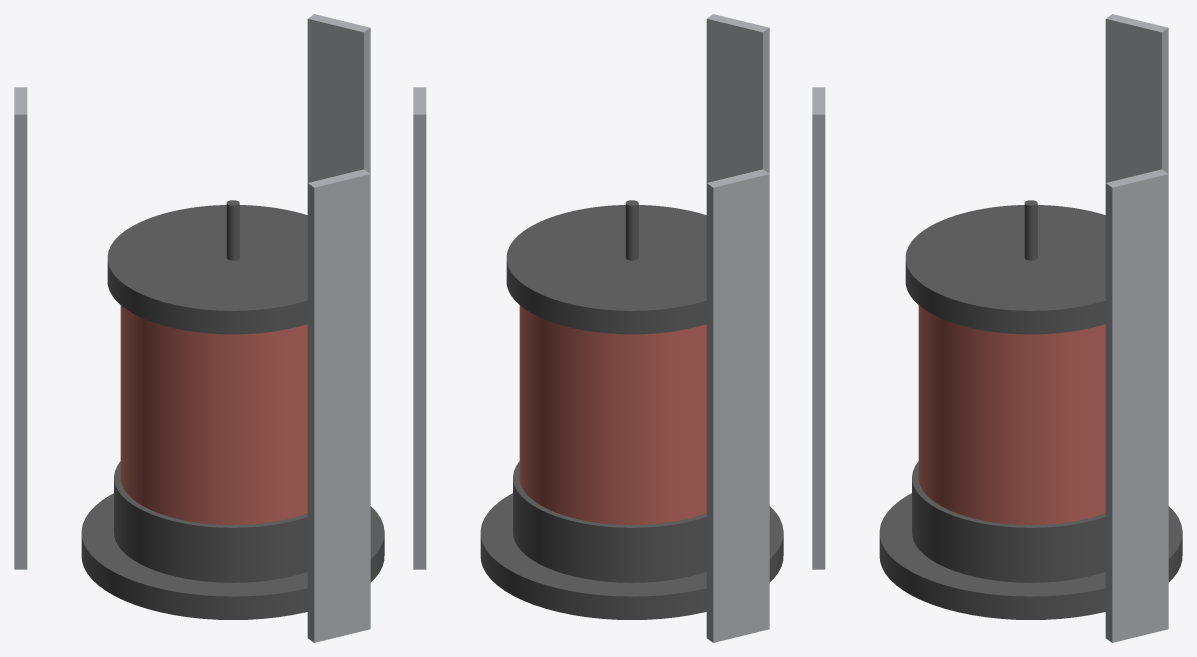
Rendered from step_02.glb.
3 views of the same model, side by side, from view 1: azimuth 30°, elevation 25°; view 2: azimuth 150°, elevation 25°; view 3: azimuth 270°, elevation 25° (orthographic).
Parts seen in each view (by area): view 1: part__lantern lens, part__topmark strut 3, part__lantern cap, part__lantern base, part__topmark strut 1, part__topmark strut 2; view 2: part__lantern lens, part__topmark strut 2, part__lantern cap, part__lantern base, part__topmark strut 3, part__topmark strut 1; view 3: part__lantern lens, part__topmark strut 1, part__lantern cap, part__lantern base, part__topmark strut 2, part__topmark strut 3.
Part boxes in pixels (<box>): part__lantern lens: <box>120,305,307,525</box>; part__topmark strut 3: <box>307,169,370,642</box>; part__lantern cap: <box>107,200,307,334</box>; part__lantern base: <box>81,461,384,619</box>; part__topmark strut 1: <box>307,14,370,182</box>; part__topmark strut 2: <box>14,87,27,569</box>; part__lantern lens: <box>519,305,706,525</box>; part__topmark strut 2: <box>706,169,769,642</box>; part__lantern cap: <box>506,200,706,334</box>; part__lantern base: <box>480,461,783,619</box>; part__topmark strut 3: <box>706,14,769,182</box>; part__topmark strut 1: <box>413,87,426,569</box>; part__lantern lens: <box>918,305,1105,525</box>; part__topmark strut 1: <box>1105,169,1168,642</box>; part__lantern cap: <box>905,200,1105,334</box>; part__lantern base: <box>879,461,1182,619</box>; part__topmark strut 2: <box>1105,14,1168,182</box>; part__topmark strut 3: <box>812,87,825,569</box>.
Size of the model in its own units: 190 by 232 by 171.
